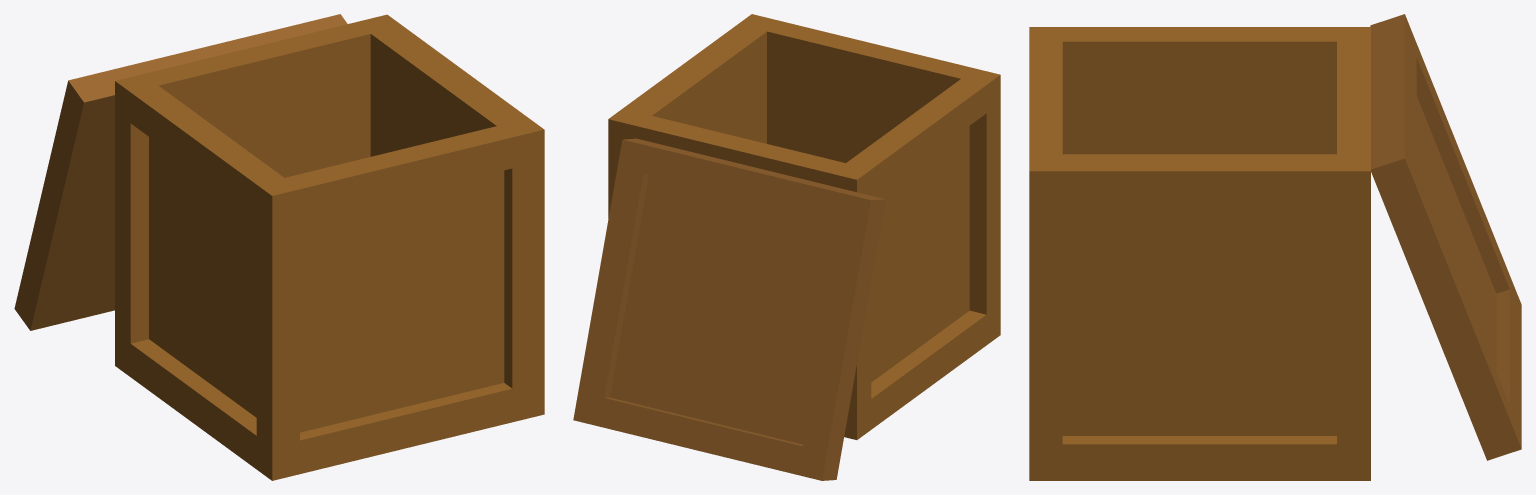
Rendered from PeraOKahon.fbx.
3 renders of one model, left to right at view 1: azimuth 30°, elevation 25°; view 2: azimuth 150°, elevation 25°; view 3: azimuth 270°, elevation 25°, orthographic. The views are drawn at different scales.
Visible parts, largest first — view 1: Cube, Cube.001; view 2: Cube.001, Cube; view 3: Cube, Cube.001.
Boxes of the visible parts, bbox=[...] form: Cube: bbox=[115, 14, 544, 480]; Cube.001: bbox=[14, 14, 347, 330]; Cube.001: bbox=[573, 138, 885, 480]; Cube: bbox=[608, 14, 1000, 439]; Cube: bbox=[1029, 27, 1370, 480]; Cube.001: bbox=[1370, 14, 1521, 460].
Size of the model in its own units: 223 by 200 by 288.
